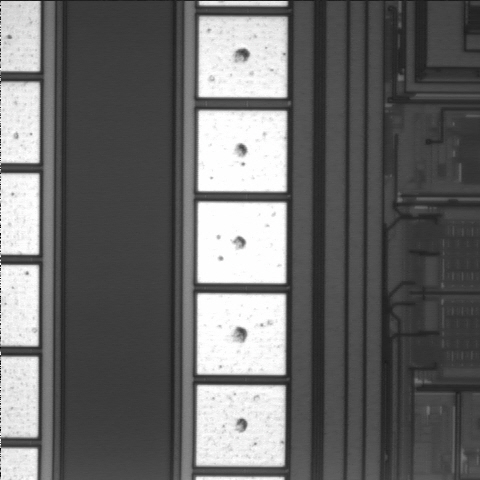pad: (198, 110, 287, 192), (197, 293, 286, 375), (196, 385, 285, 467), (198, 17, 287, 98), (197, 202, 286, 283)
